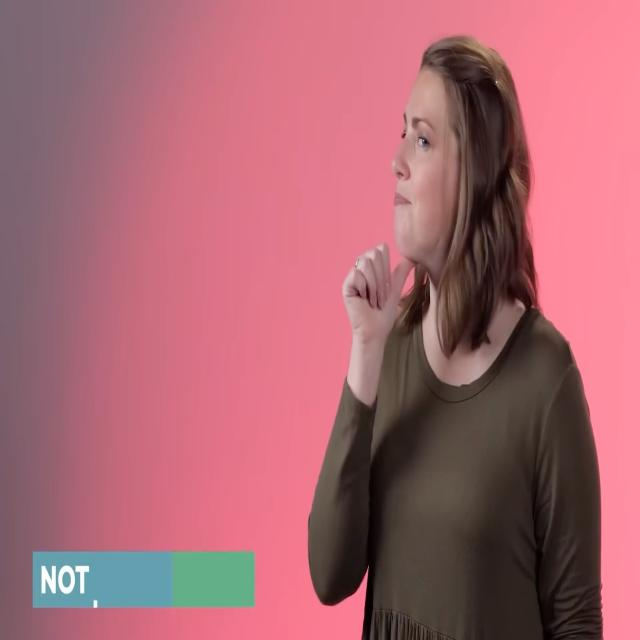not: (333, 215, 438, 388)
